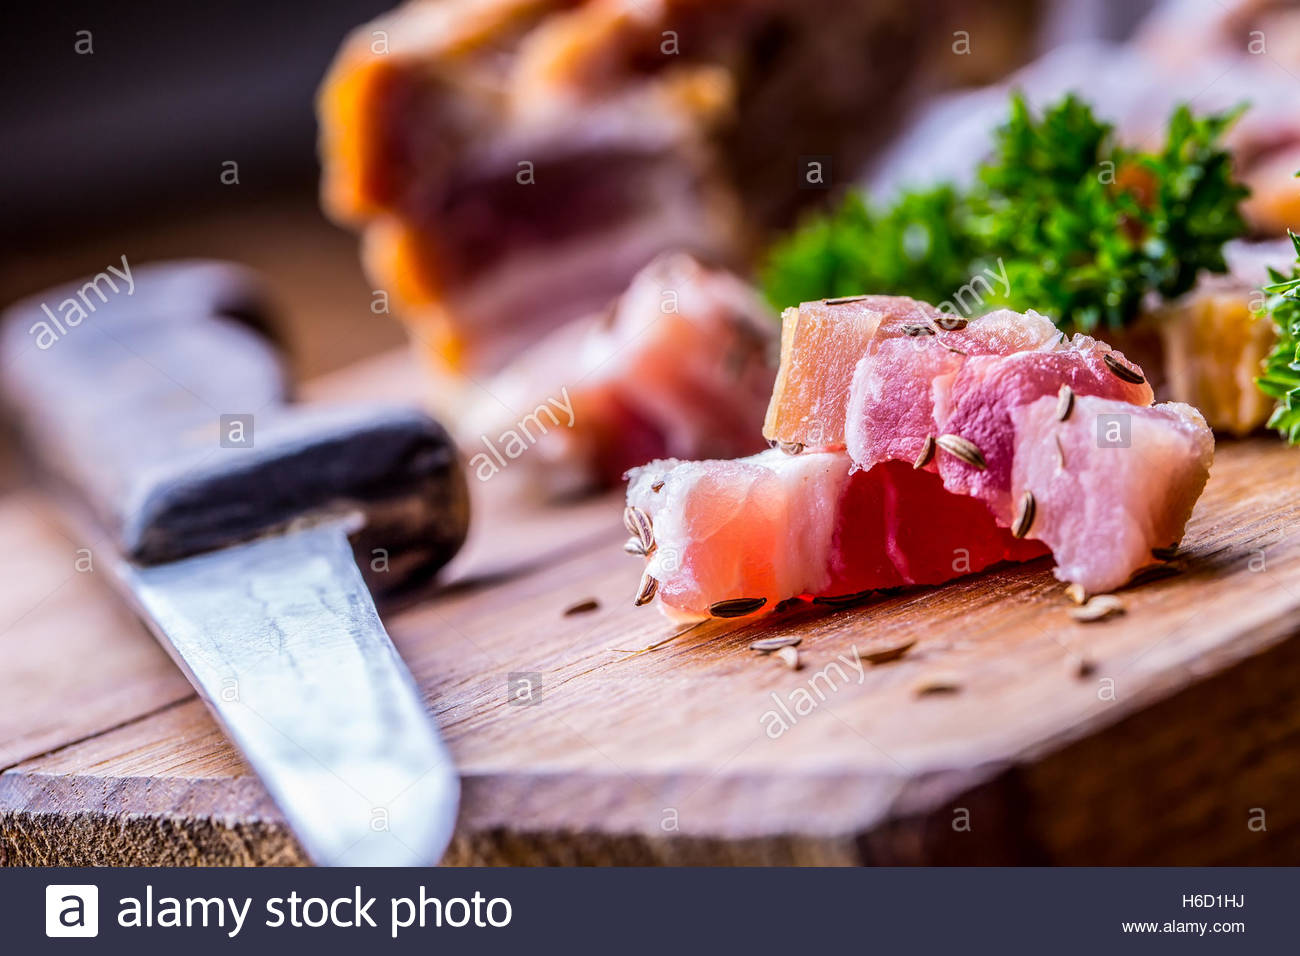bacon: (729, 246, 1219, 586), (616, 453, 1049, 618)
